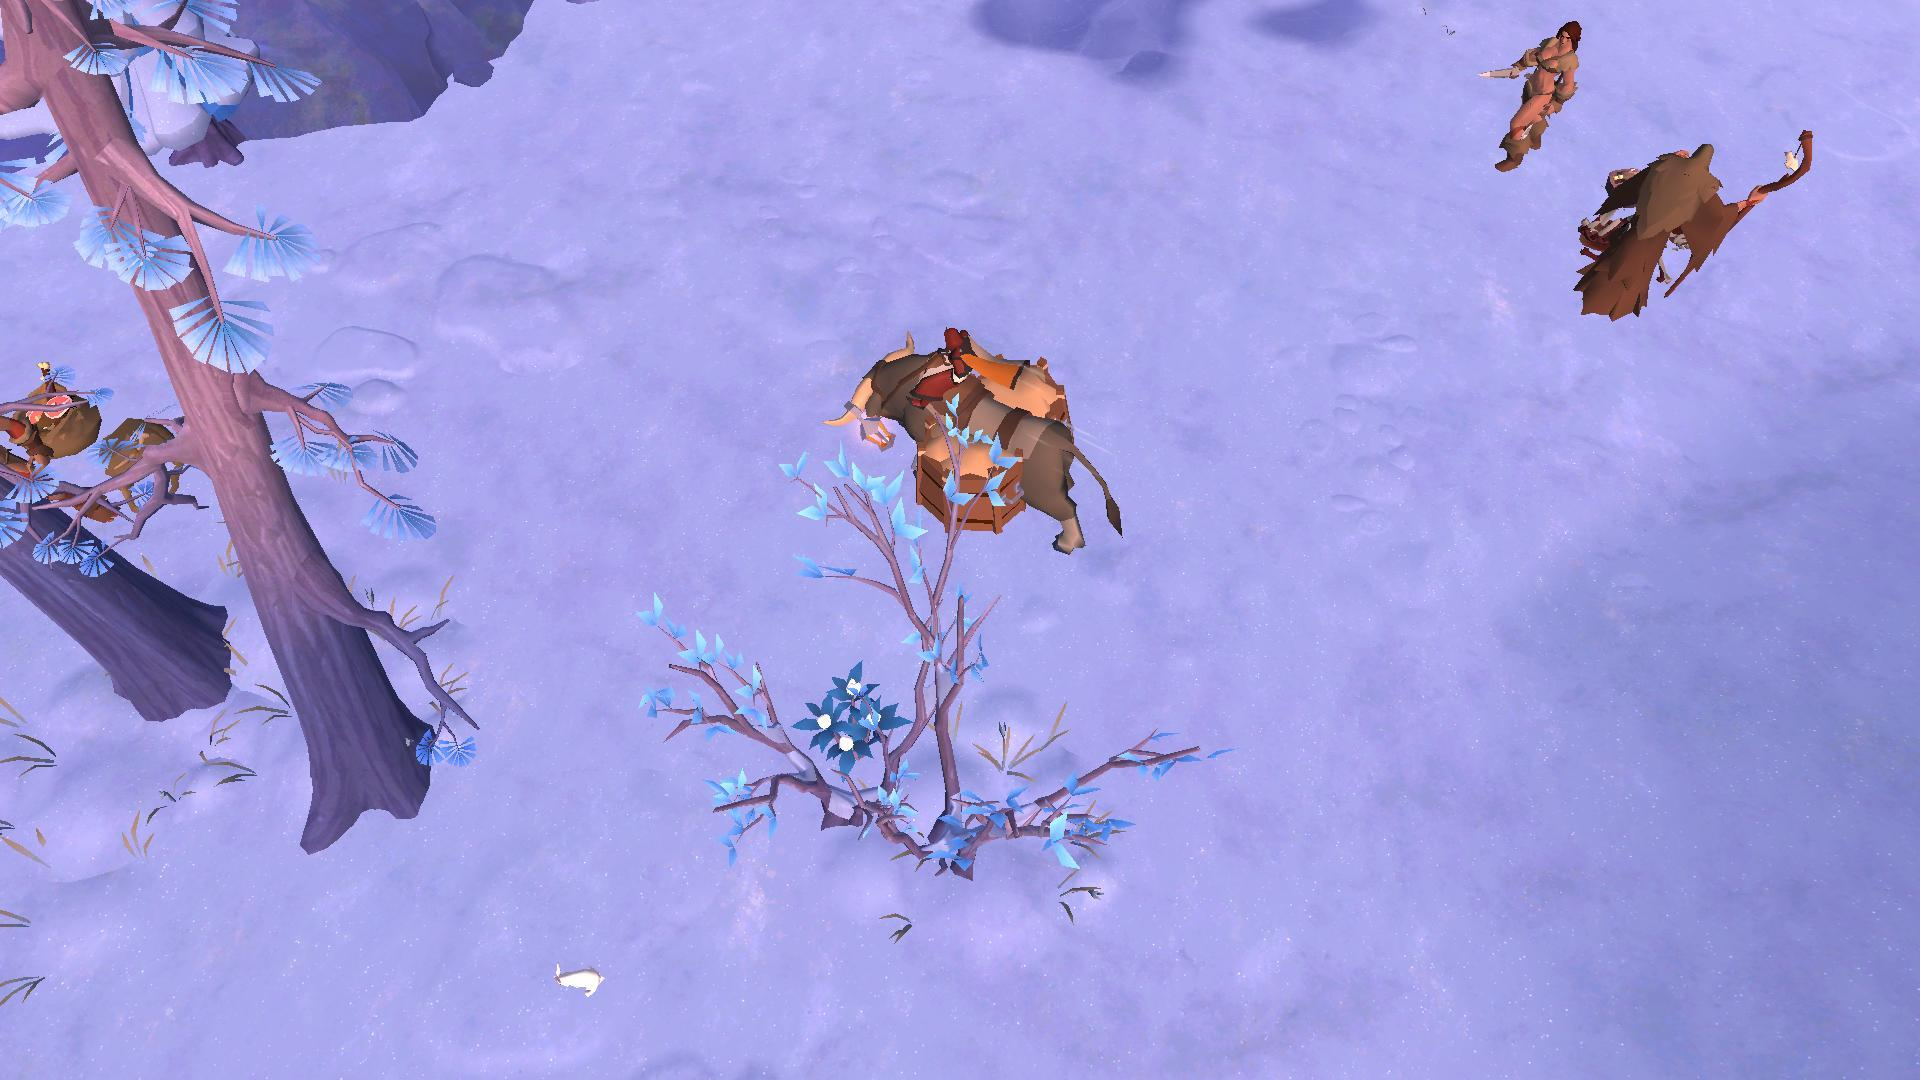enemy_factionKeeper: (1572, 142, 1812, 338), (1501, 18, 1577, 185)
fiber_t4: (790, 661, 897, 770)
